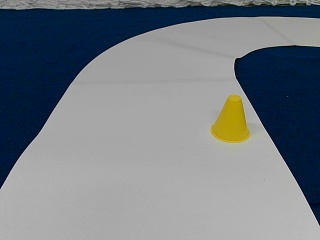cone: (212, 95, 250, 141)
